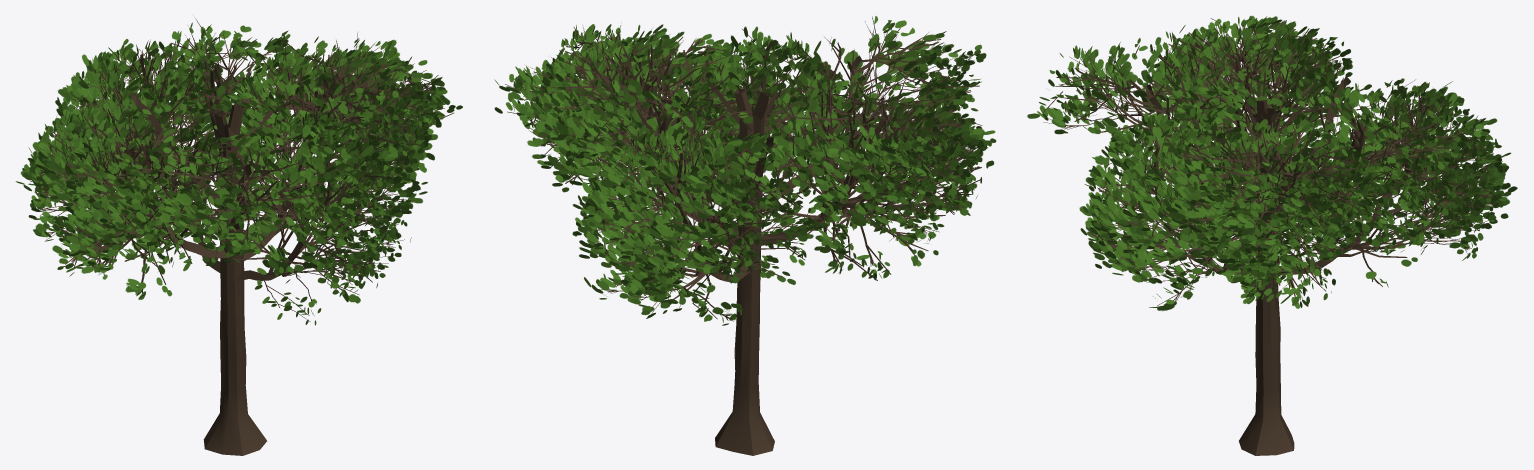
3 renders of one model, left to right at view 1: azimuth 30°, elevation 25°; view 2: azimuth 150°, elevation 25°; view 3: azimuth 270°, elevation 25°, orthographic. The views are drawn at different scales.
Visible parts, largest first — view 1: oak 01.001_trunk_Mat.001_0.087; view 2: oak 01.001_trunk_Mat.001_0.087; view 3: oak 01.001_trunk_Mat.001_0.087.
Part boxes in pixels (x1,y1,x2,y2): oak 01.001_trunk_Mat.001_0.087: [15, 18, 462, 455]; oak 01.001_trunk_Mat.001_0.087: [494, 16, 996, 455]; oak 01.001_trunk_Mat.001_0.087: [1027, 15, 1517, 455].
Size of the model in its own units: 6.55 by 5.27 by 6.62.
Materials: 2 (1 with a texture image).
